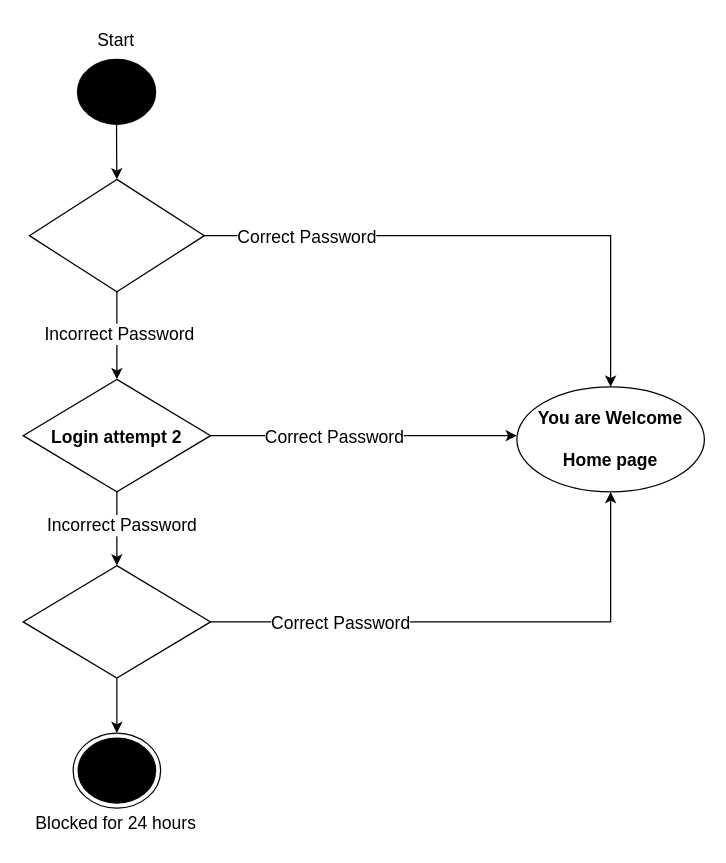
This 726x863 diagram has some shape labels left out. The centre of each missing label's shape, as x and y in pixels:
Login attempt 1: (x=116, y=235)
Login attempt 3: (x=116, y=621)
